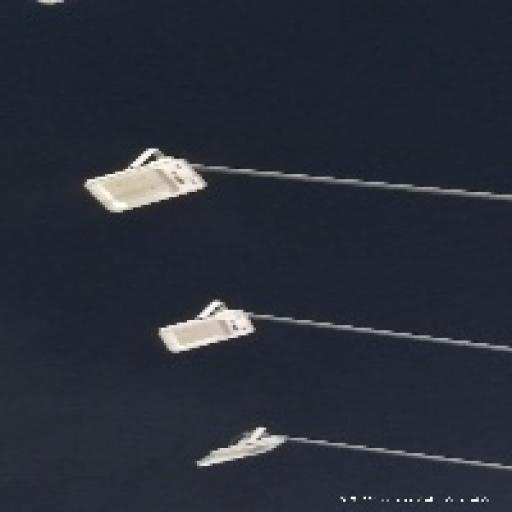Not Working: (80, 140, 230, 228), (146, 293, 278, 365), (190, 426, 300, 486)
